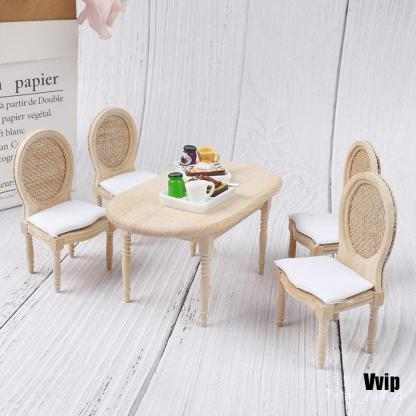chair: (267, 167, 396, 369), (4, 134, 115, 291), (285, 139, 398, 259), (82, 115, 168, 224)
table: (106, 164, 283, 329)
